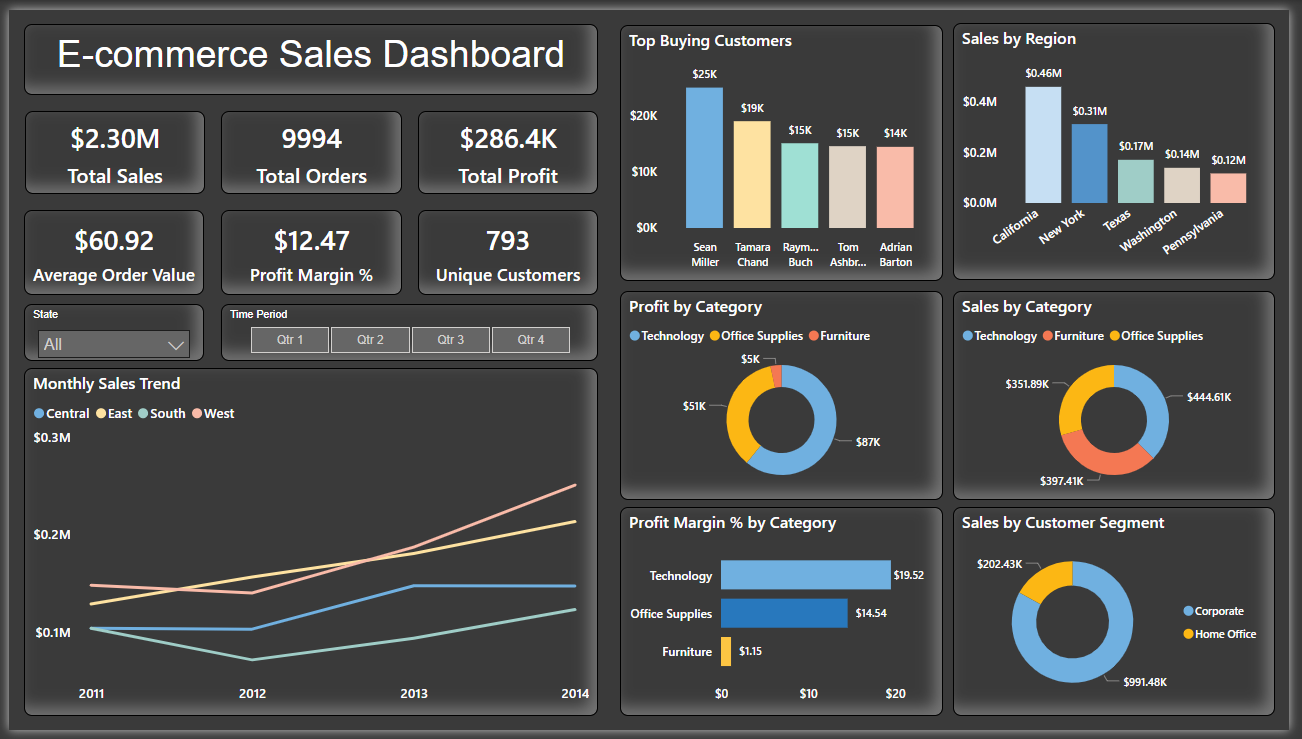

What the dashboard file says about the page in this screenshot:
{"tool":"powerbi","page":{"name":"Page 1","canvas":[1280,720],"ordinal":0},"visuals":[{"type":"textbox","box":[15,13.8,573.8,71.2],"z":0},{"type":"card","fields":{"Values":["Orders.Total Sales"]},"box":[16,100.6,180.4,83.4],"z":1000},{"type":"card","fields":{"Values":["Orders.Total Orders"]},"box":[212.3,100.6,180.4,83.4],"z":2000},{"type":"card","fields":{"Values":["Orders.Sum of Profit"]},"box":[408.6,100.6,180.4,83.4],"z":3000},{"type":"card","fields":{"Values":["Orders.Average Order Value"]},"box":[14.7,200,180.4,84.7],"z":4000},{"type":"card","fields":{"Values":["Orders.Profit Margin %"]},"box":[212.3,200,180.4,84.7],"z":5000},{"type":"card","fields":{"Values":["Orders.Unique Customers"]},"box":[408.6,200,180.4,84.7],"z":6000},{"type":"lineChart","title":"Monthly Sales Trend","fields":{"Category":["Orders.Order Date.Variation.Date Hierarchy.Year"],"Y":["Orders.Total Sales"],"Series":["Orders.Region"]},"box":[14.7,358.3,574.2,347.2],"z":7000},{"type":"clusteredColumnChart","title":"Sales by Region","fields":{"Category":["Orders.State"],"Y":["Orders.Total Sales"]},"box":[943.6,13.5,322.7,256.4],"z":8000},{"type":"donutChart","title":"Profit by Category ","fields":{"Category":["Orders.Category"],"Y":["Orders.Profit"]},"box":[611,281,322.7,208.6],"z":9000},{"type":"donutChart","title":"Sales by Category ","fields":{"Category":["Orders.Category"],"Y":["Orders.Total Sales"]},"box":[943.6,281,322.7,208.6],"z":10000},{"type":"clusteredBarChart","title":"Profit Margin % by Category ","fields":{"Y":["Orders.Profit Margin %"],"Category":["Orders.Category"]},"box":[611,496.9,322.7,208.6],"z":11000},{"type":"donutChart","title":"Sales by Customer Segment ","fields":{"Category":["Orders.Segment"],"Y":["Orders.Total Sales"]},"box":[943.6,496.9,322.7,208.6],"z":12000},{"type":"clusteredColumnChart","title":"Top Buying Customers ","fields":{"Y":["Orders.Total Sales"],"Category":["Orders.Customer Name"]},"box":[611,14.7,322.7,256.4],"z":13000},{"type":"slicer","title":"State","fields":{"Values":["Orders.State"]},"box":[14.7,294.5,180.4,56.4],"z":14000},{"type":"slicer","title":"Time Period","fields":{"Values":["Orders.Order Date.Variation.Date Hierarchy.Quarter"]},"box":[212.3,294.5,376.7,56.4],"z":15000}]}

Visuals, with their boxes in screenshot pixels (x1, y1, x2, y2), scaled from the page's 1280x720 canvas onto the 1302x739 screenshot:
textbox: (15,14,599,87)
card - Orders.Total Sales: (16,103,200,189)
card - Orders.Total Orders: (216,103,399,189)
card - Orders.Sum of Profit: (416,103,599,189)
card - Orders.Average Order Value: (15,205,198,292)
card - Orders.Profit Margin %: (216,205,399,292)
card - Orders.Unique Customers: (416,205,599,292)
"Monthly Sales Trend" lineChart: (15,368,599,724)
"Sales by Region" clusteredColumnChart: (960,14,1288,277)
"Profit by Category " donutChart: (622,288,950,503)
"Sales by Category " donutChart: (960,288,1288,503)
"Profit Margin % by Category " clusteredBarChart: (622,510,950,724)
"Sales by Customer Segment " donutChart: (960,510,1288,724)
"Top Buying Customers " clusteredColumnChart: (622,15,950,278)
"State" slicer: (15,302,198,360)
"Time Period" slicer: (216,302,599,360)
